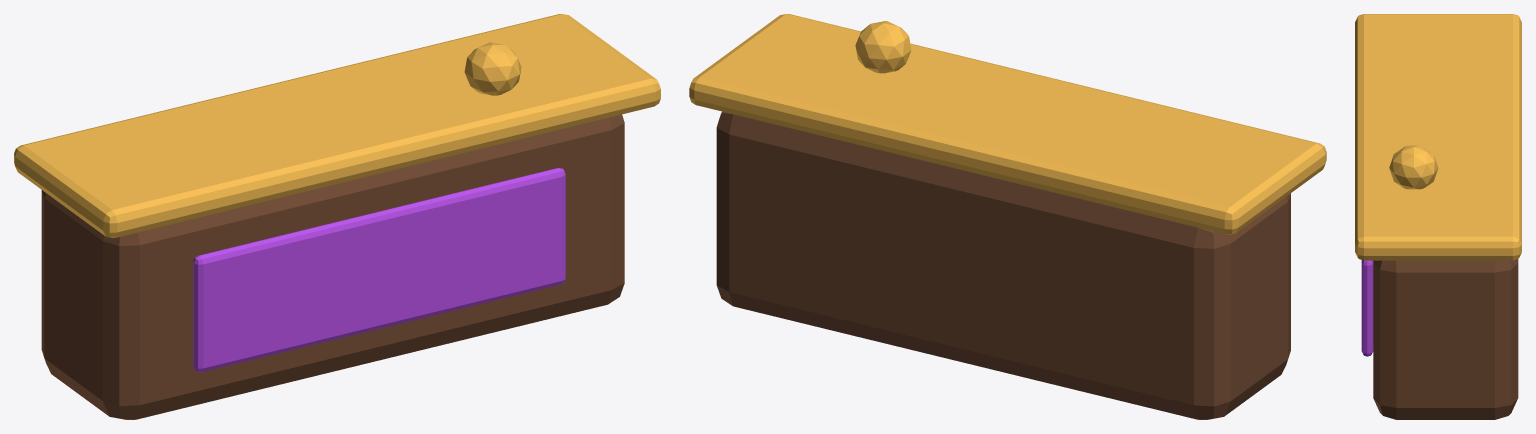
File: reception.glb
3 views of the same model, side by side, from view 1: azimuth 30°, elevation 25°; view 2: azimuth 150°, elevation 25°; view 3: azimuth 270°, elevation 25° (orthographic). The views are drawn at different scales.
Visible parts, largest first — view 1: ReceptionDeskMesh; view 2: ReceptionDeskMesh; view 3: ReceptionDeskMesh.
Boxes of the visible parts, <box> form: ReceptionDeskMesh: <box>14,14,660,419</box>; ReceptionDeskMesh: <box>689,14,1326,419</box>; ReceptionDeskMesh: <box>1355,14,1521,419</box>.
Bounding box in the file's own units: 3.75 × 1.78 × 1.15.
